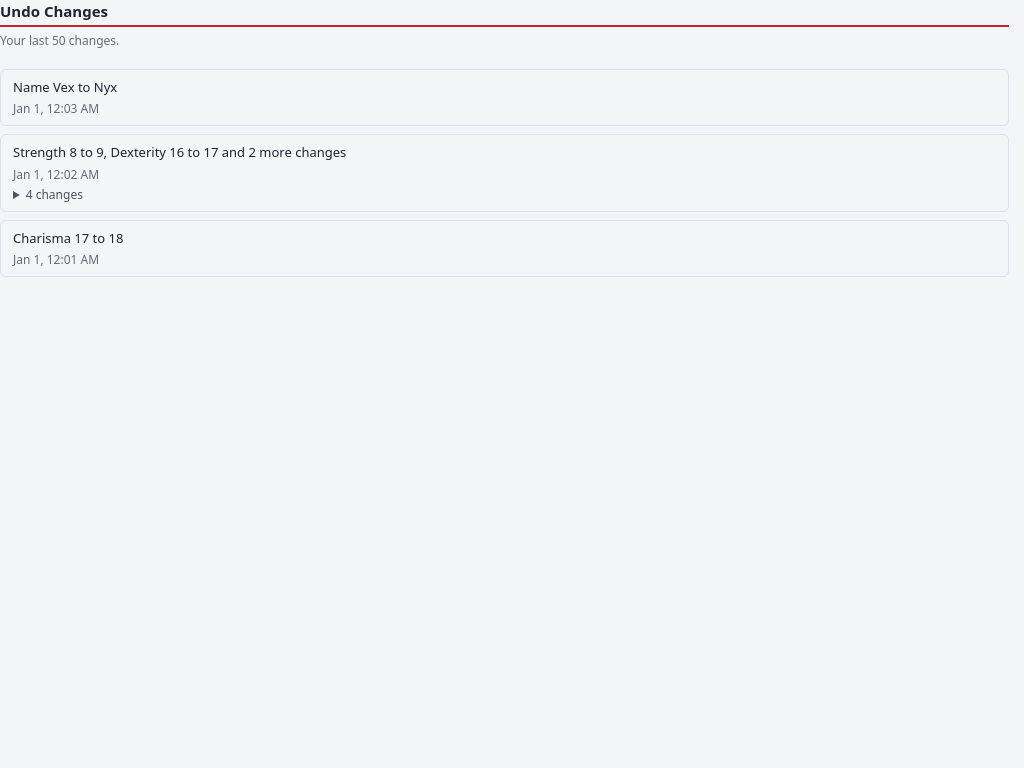
Test case: UndoHistory › asks first, then undoes back to the entry in one write and announces it
This screenshot has width=1024, height=768.
expect the number of list items is 3: met, box 0,68 -> 1009,126; 0,134 -> 1009,212; 0,220 -> 1009,277
Click the button with aria-label "Undo to here": (180, 152) 13,143 -> 996,182
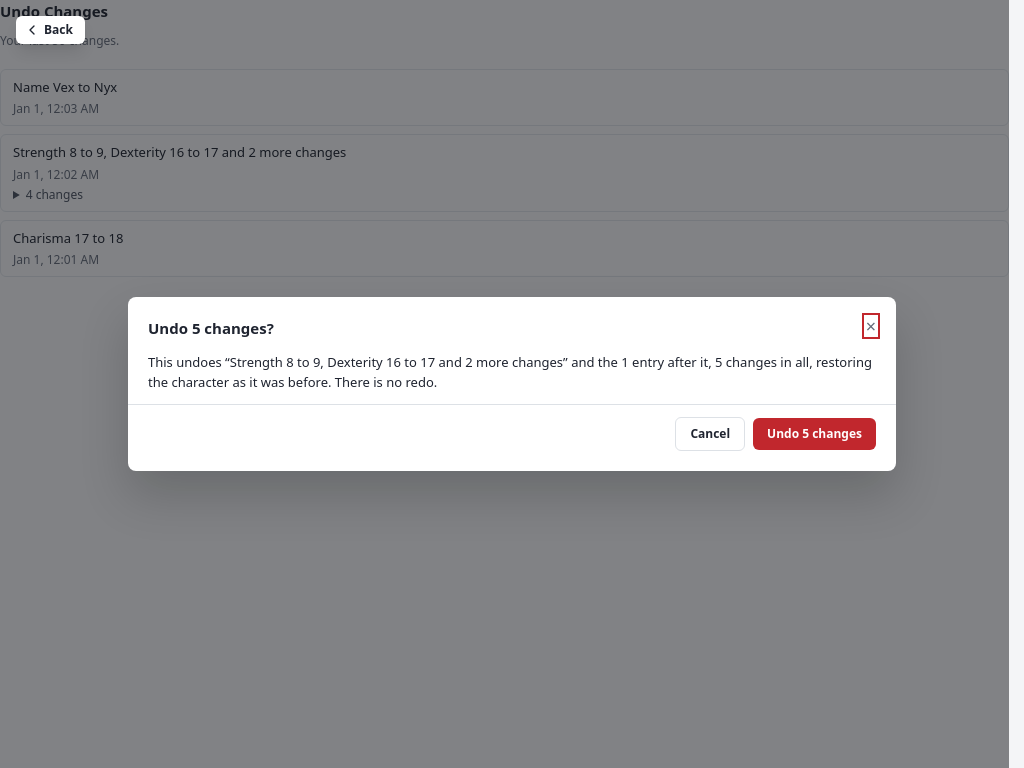
expect the dialog "Undo 5 changes?" shows "and the 1 entry after it, 5 changes in all": met, box 128,297 -> 896,471
expect the dialog "Undo 5 changes?" shows "There is no redo.": met, box 148,353 -> 872,391
Click the button "Undo 5 changes": (815, 434) 753,418 -> 876,450
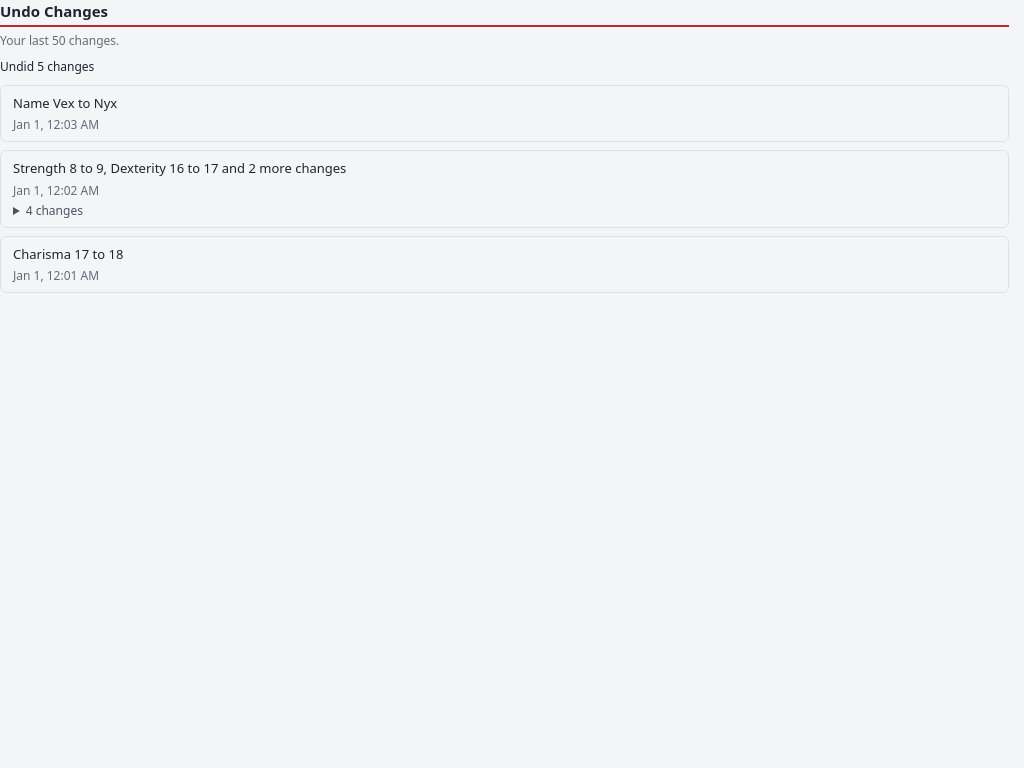
expect the message reads "Undid 5 changes": met, box 0,58 -> 94,74
expect the dialog is gone: met
